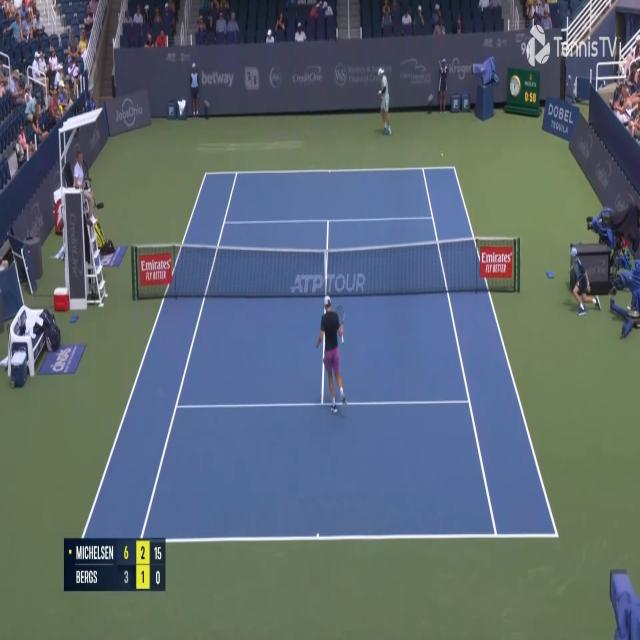tennis-player: (315, 293, 348, 417), (376, 67, 392, 136)
